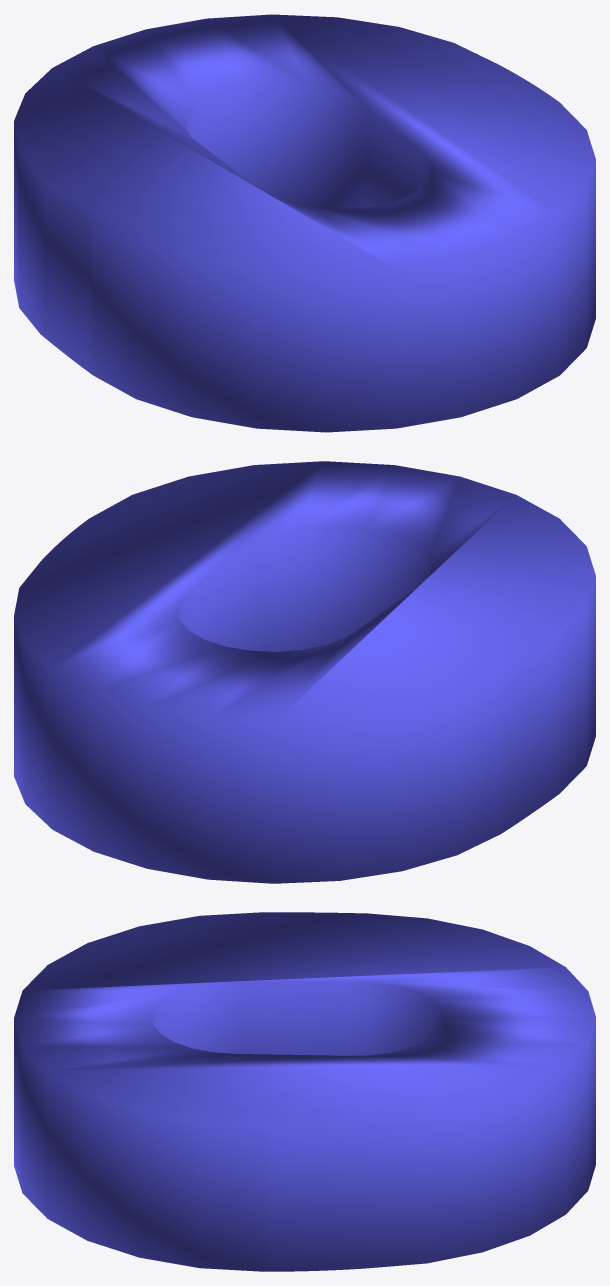
3 views of the same model, one above another, from view 1: azimuth 30°, elevation 25°; view 2: azimuth 150°, elevation 25°; view 3: azimuth 270°, elevation 25° (orthographic). The views are drawn at different scales.
Visible parts, largest first — view 1: O1; view 2: O1; view 3: O1.
Boxes of the visible parts, x1,y1,x2,y2 form: O1: [14, 14, 595, 432]; O1: [14, 461, 595, 883]; O1: [14, 912, 595, 1271].
Bounding box in the file's own units: 18.11 × 5.91 × 21.05.
